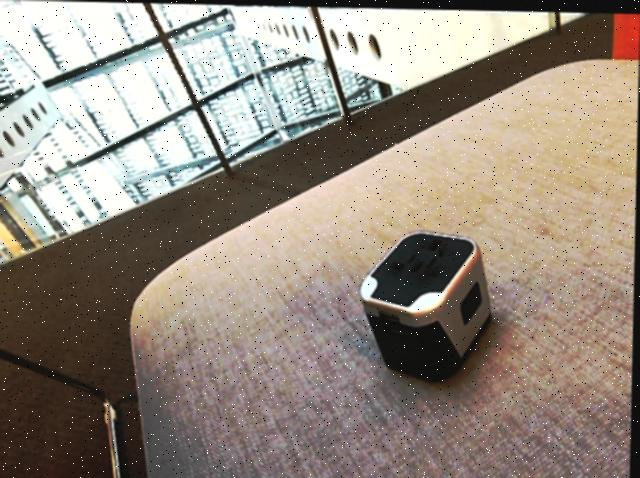adapter: (358, 228, 494, 381)
